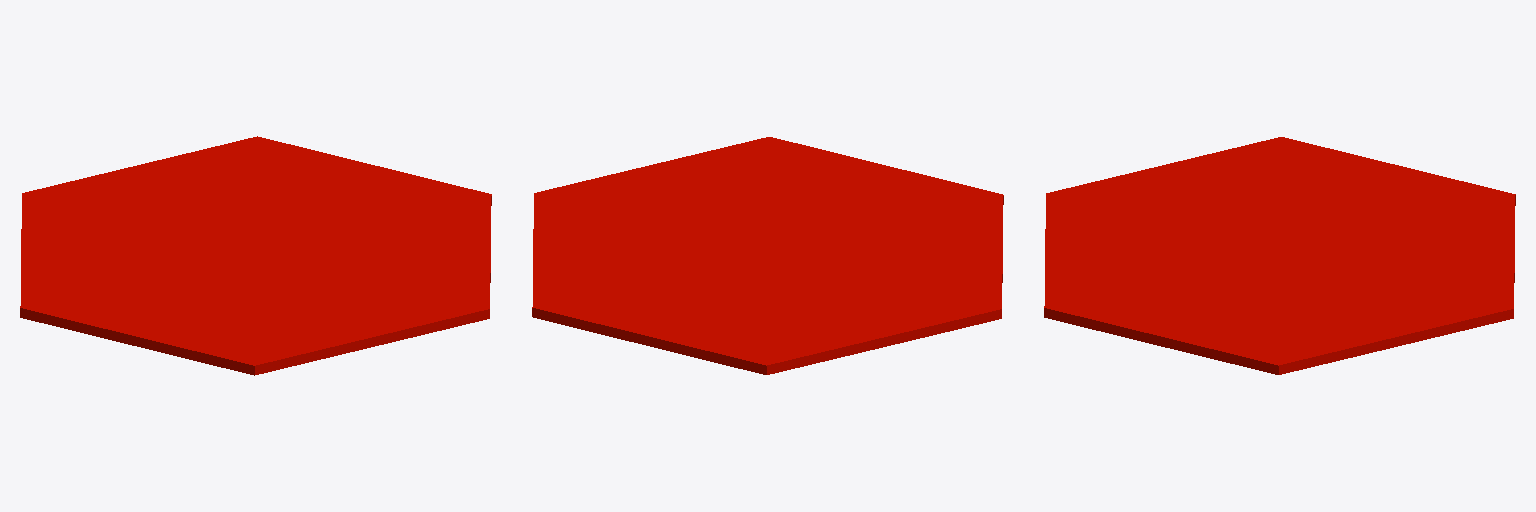
URDF robot description (Hexagon_red):
<?xml version="1.0"?>
<!-- created with Phobos 1.0.1 "Capricious Choutengan" -->
  <robot name="Hexagon_red">
  
    <material name="red">
      <color rgba="0.85 0.078 0 1"/>
    </material>

    <link name="Untitled">
      <inertial>
        <origin xyz="0 0 0" rpy="0 0 0"/>
        <mass value="0.001"/>
        <inertia ixx="0.001" ixy="0" ixz="0" iyy="0.001" iyz="0" izz="0.001"/>
      </inertial>
      <visual name="Miniaturebase 20151107-25899-Phehsx-0">
        <origin xyz="0 0 0" rpy="0 1.57 0.72"/>
        <geometry>
          <mesh filename="hexagon.stl" scale="0.3 1 1"/>
        </geometry>
        <material name="red"/>
      </visual>
    </link>
    
  </robot>

--- What the picture shows (computed from the rendered views, not written in the file) ---
Views: 3 orthographic renders of the robot side by side, from view 1: azimuth 30°, elevation 25°; view 2: azimuth 150°, elevation 25°; view 3: azimuth 270°, elevation 25°.
Robot: Hexagon_red — 1 links, 0 joints (none); root link Untitled; default pose: every joint at zero.
Links seen in each view (by area): view 1: Untitled; view 2: Untitled; view 3: Untitled.
Link boxes in pixels (x1,y1,x2,y2): Untitled: [20, 136, 491, 375]; Untitled: [532, 137, 1003, 374]; Untitled: [1044, 137, 1515, 374].
Size in the robot's own frame: 45 by 39.09 by 0.934 metres.
Meshes: 1 distinct files referenced, 1 mesh visuals loaded (1 binary STL).